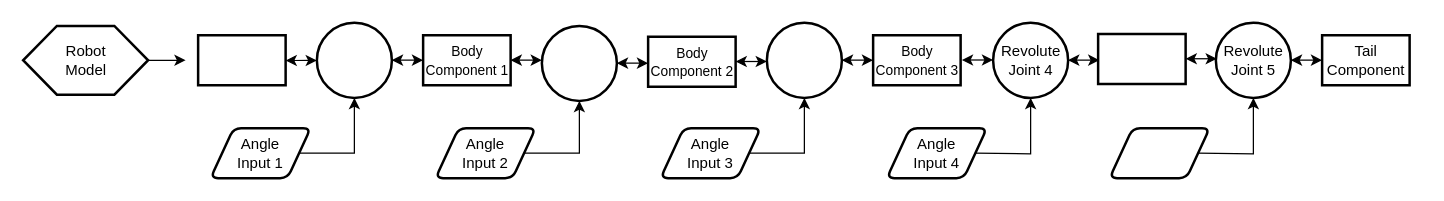
The diagram is 1444 pixels wide and 201 high, and some of its shapes have lost their labels. Here are the shapes that lost their labels. From the top down, the box of each, then its label:
(196, 33, 286, 86): Head Component
(315, 21, 392, 98): Revolute Joint 1
(540, 24, 618, 102): Revolute Joint 2
(765, 21, 842, 98): Revolute Joint 3
(1096, 32, 1186, 85): Body Component 4
(1108, 126, 1210, 179): Angle Input 5
